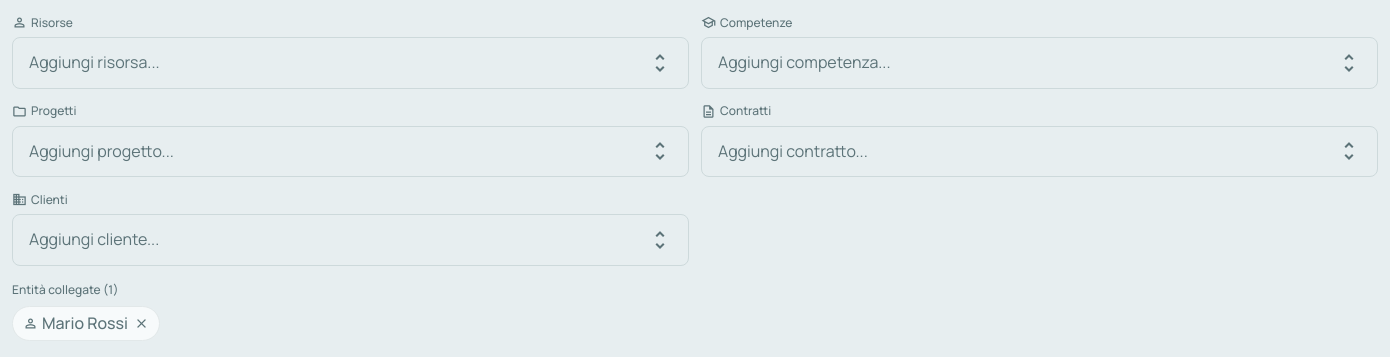
Test: EntityLinkPicker › esclude dalle opzioni le entità già collegate
This screenshot has width=1390, height=357.
Click the text "Aggiungi risorsa..." at (94, 63), box [29, 50, 160, 76]
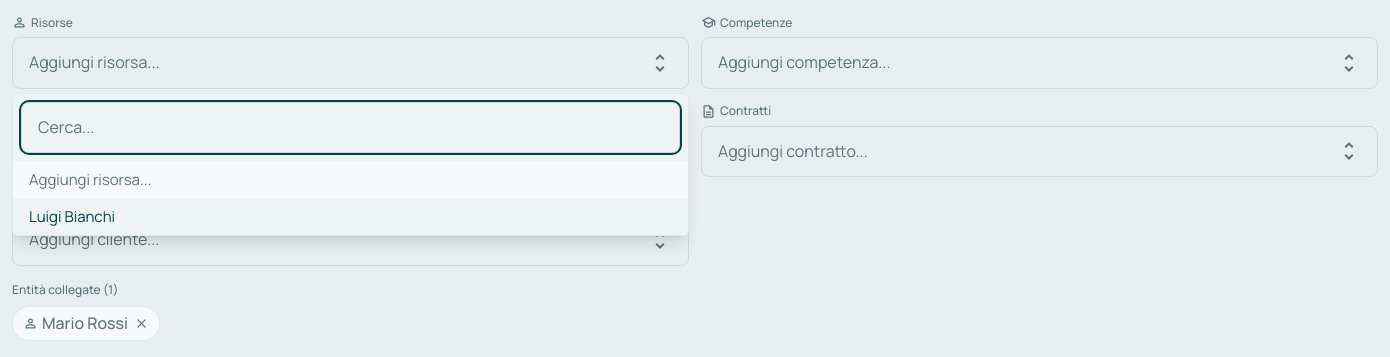
Check: the option "Luigi Bianchi" is shown, box [29, 206, 115, 227]
